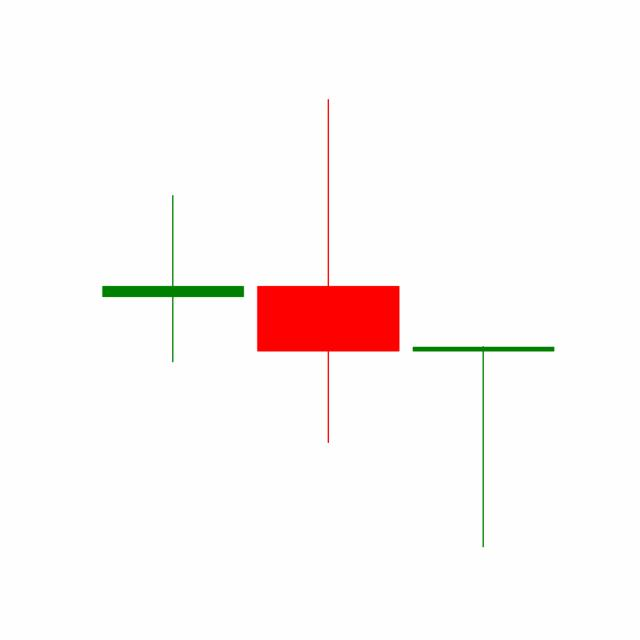Dragonfly Doji: (405, 343, 561, 550)
